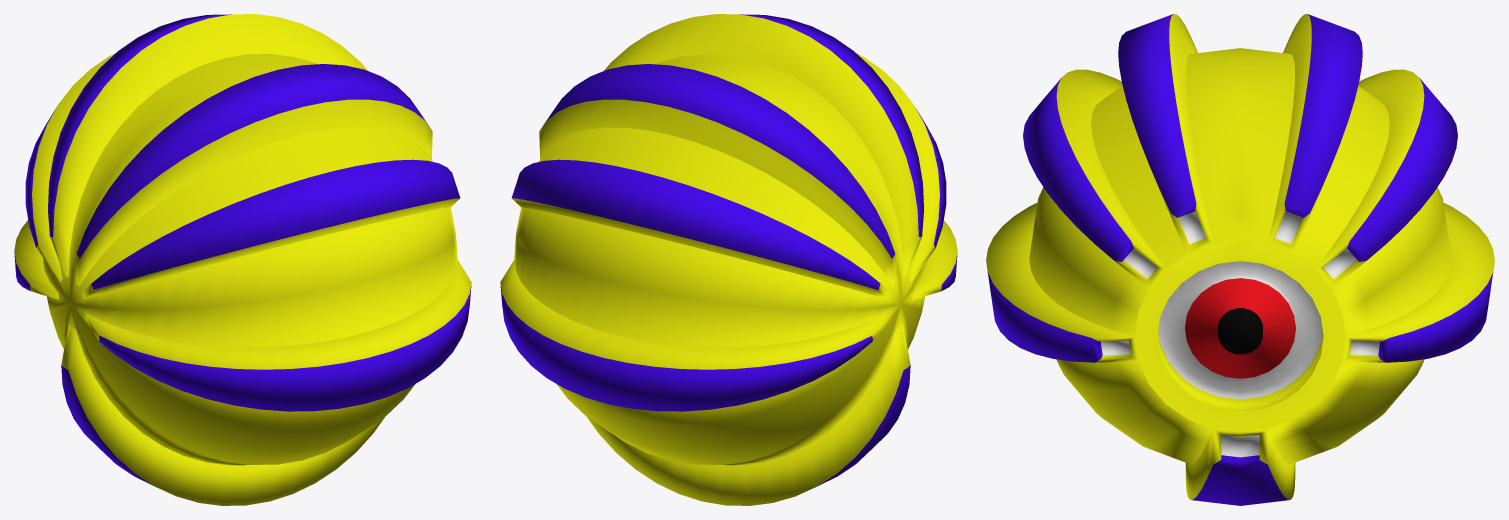
The model's file is enemy.fbx.
3 renders of one model, left to right at view 1: azimuth 30°, elevation 25°; view 2: azimuth 150°, elevation 25°; view 3: azimuth 270°, elevation 25°, orthographic.
Parts seen in each view (by area): view 1: Sphere; view 2: Sphere; view 3: Sphere.
Part boxes in pixels (left/top/right/bottom): Sphere: left=14, top=14, right=471, bottom=505; Sphere: left=500, top=14, right=957, bottom=505; Sphere: left=986, top=14, right=1494, bottom=505.
Size of the model in its own units: 190 by 236 by 241.
